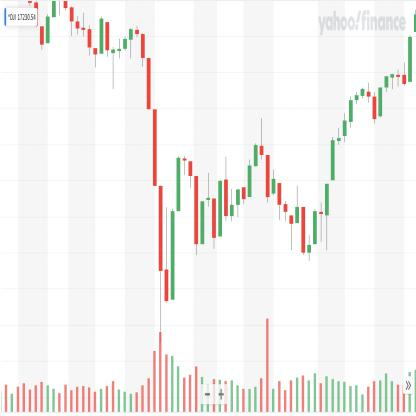Bearish: 3 Black Crows: (146, 54, 164, 330), (140, 29, 158, 189)
